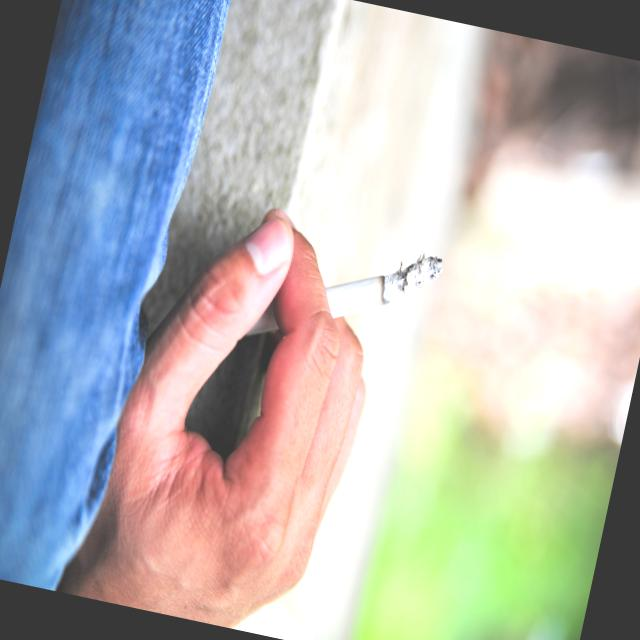cigarette: (204, 192, 452, 388)
